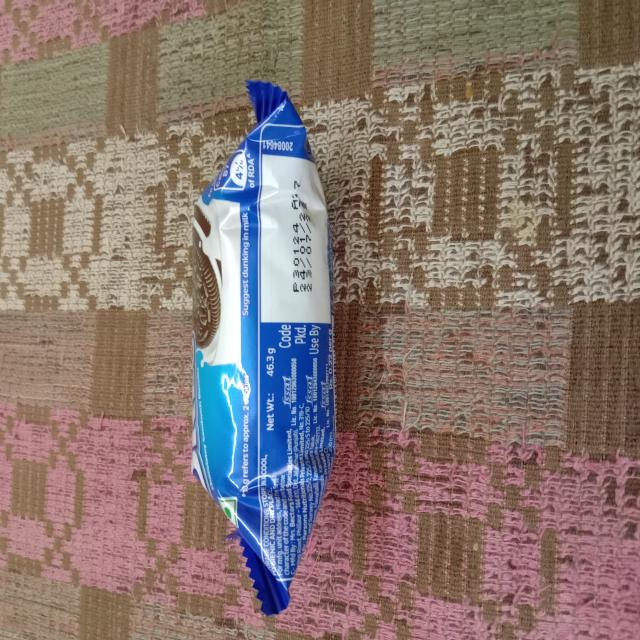oreo biscuit: (188, 70, 332, 617)
